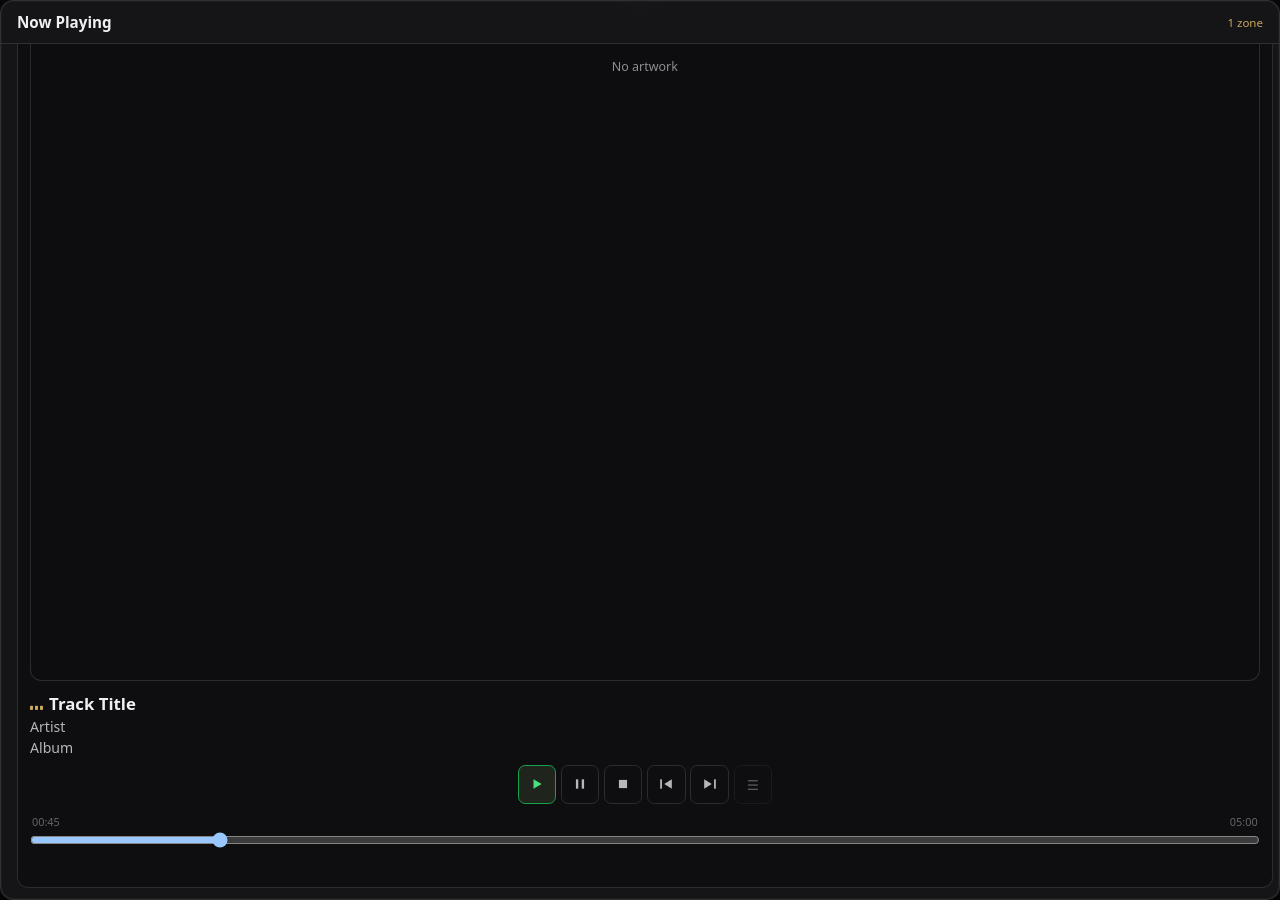
Scenario: ZoneStatusPanel — three-state stop button › available-state click sends roon-control-request action=stop
(page scrolled)
Step 1. Click the button named "Stop" → (623, 784), box [604,765,642,804]
(page scrolled)
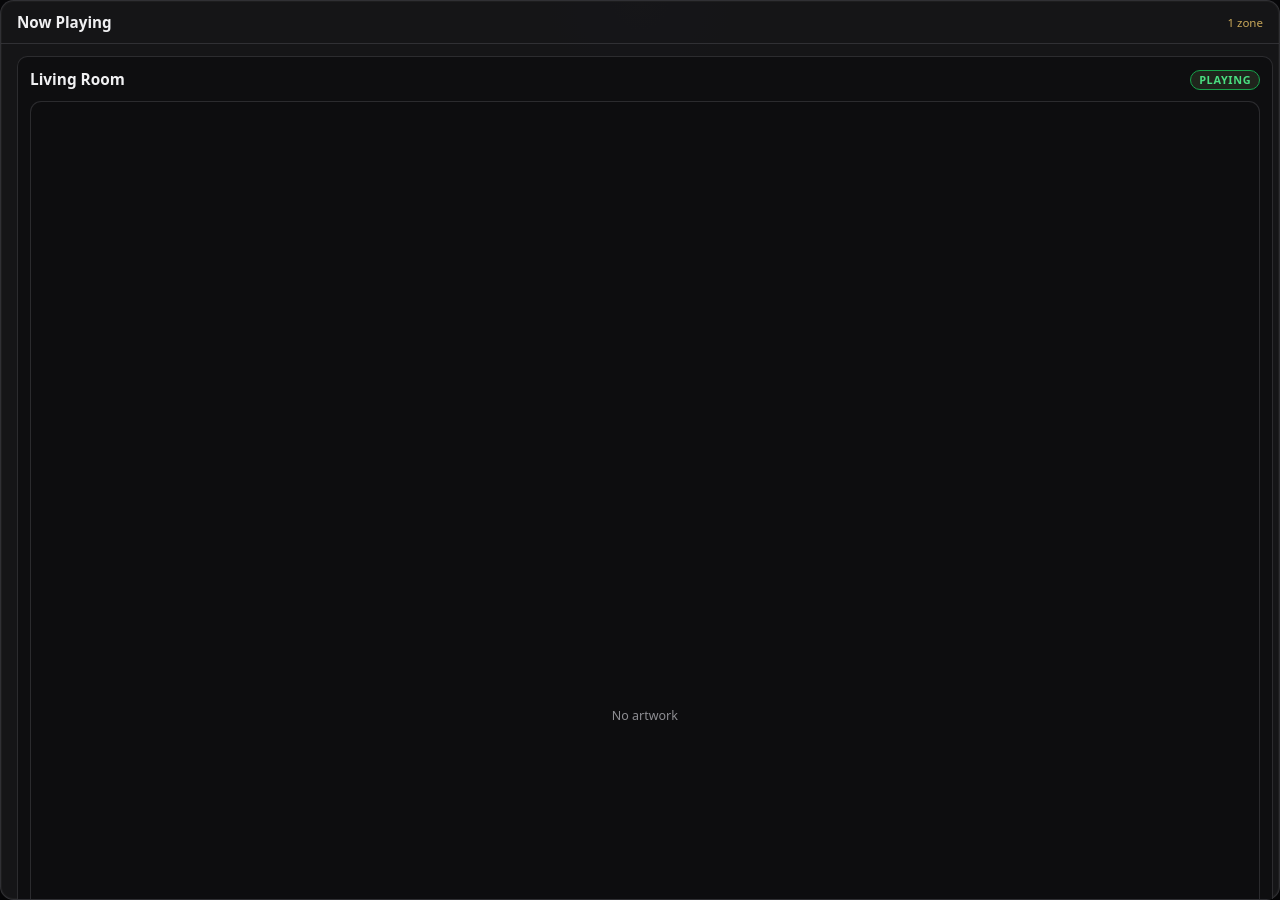
Check: the text "Living Room" is shown, box [30,69,125,90]
